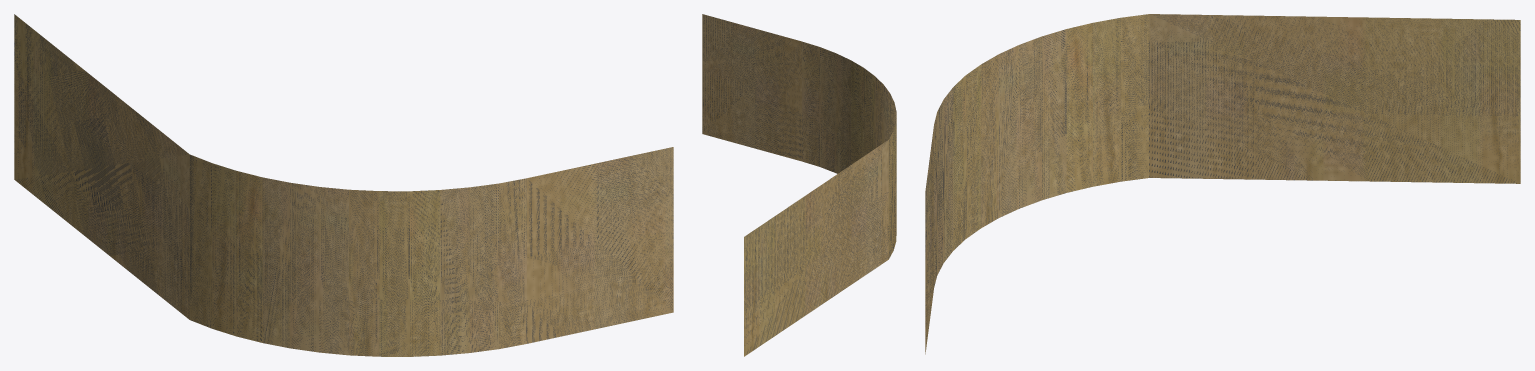
File: original-90.obj
3 renders of one model, left to right at view 1: azimuth 30°, elevation 25°; view 2: azimuth 150°, elevation 25°; view 3: azimuth 270°, elevation 25°, orthographic. The views are drawn at different scales.
Parts seen in each view (by area): view 1: mesh39/mesh39-geometry/material_3/component_1#mesh39-geometry; view 2: mesh39/mesh39-geometry/material_3/component_1#mesh39-geometry; view 3: mesh39/mesh39-geometry/material_3/component_1#mesh39-geometry.
Part boxes in pixels (box(x1,y1,x2,y2)): mesh39/mesh39-geometry/material_3/component_1#mesh39-geometry: box(14, 14, 673, 356); mesh39/mesh39-geometry/material_3/component_1#mesh39-geometry: box(702, 14, 896, 356); mesh39/mesh39-geometry/material_3/component_1#mesh39-geometry: box(925, 14, 1520, 354).
Bounding box in the file's own units: 0.1069 × 0.0456 × 0.1503.
